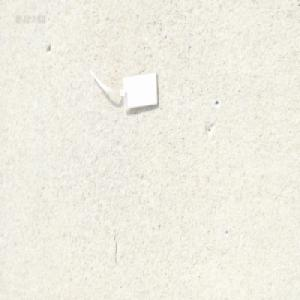LuggageTag: (86, 66, 158, 113)
